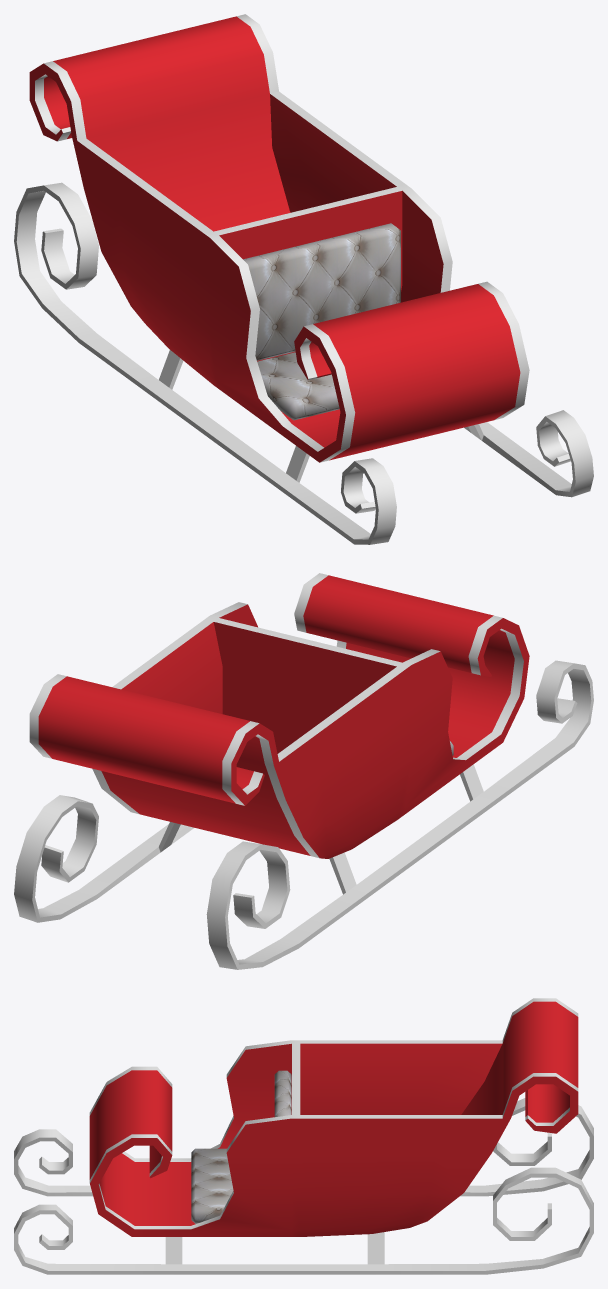
Rendered from Sleigh.fbx.
3 views of the same model, one above another, from view 1: azimuth 30°, elevation 25°; view 2: azimuth 150°, elevation 25°; view 3: azimuth 270°, elevation 25° (orthographic). The views are drawn at different scales.
Visible parts, largest first — view 1: Sleigh; view 2: Sleigh; view 3: Sleigh.
Boxes of the visible parts, x1,y1,x2,y2 form: Sleigh: (14, 14, 593, 544); Sleigh: (14, 573, 593, 969); Sleigh: (14, 998, 593, 1274).
Size of the model in its own units: 240 by 255 by 688.
